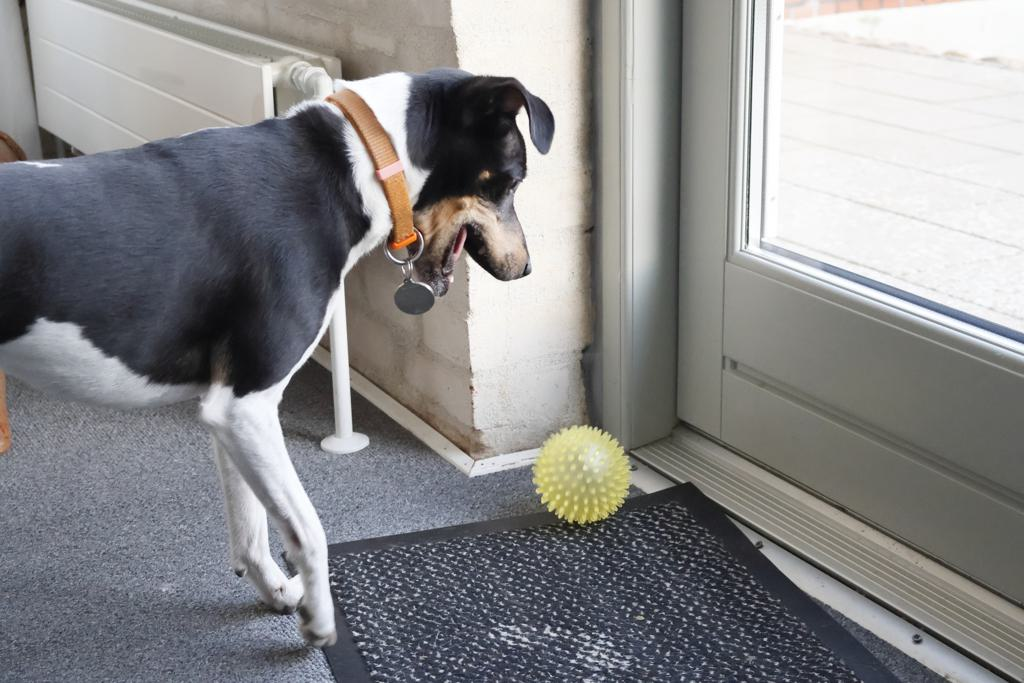Dog: (0, 54, 566, 656)
